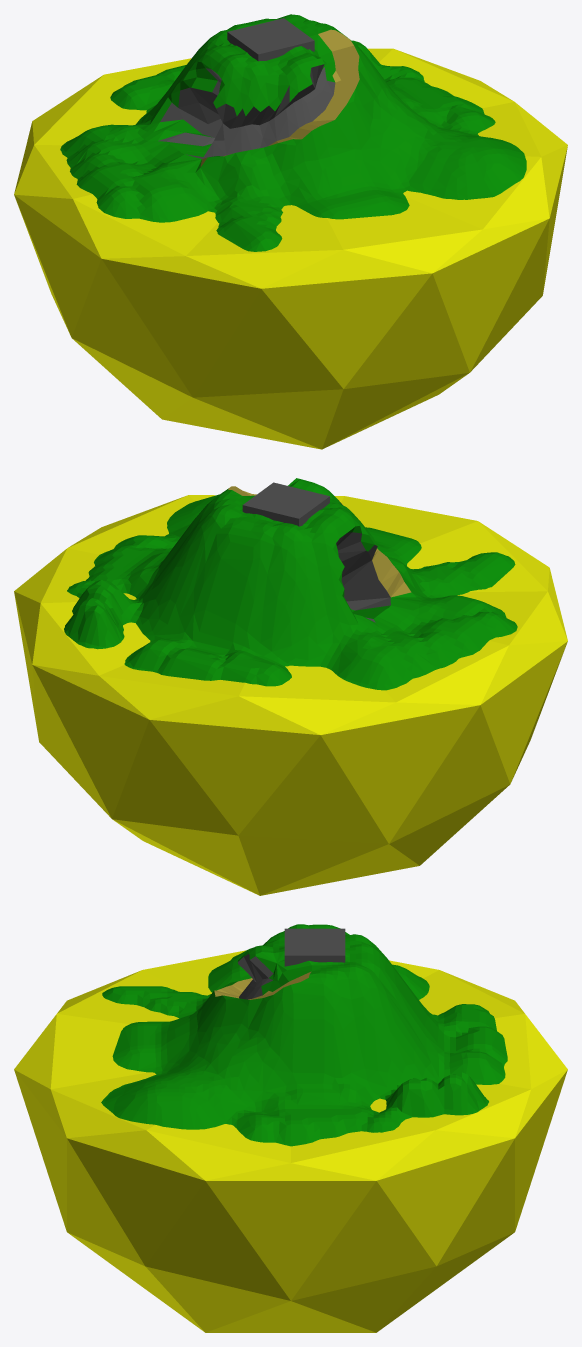
The model's file is Mapa3 Proyecto.fbx.
3 views of the same model, one above another, from view 1: azimuth 30°, elevation 25°; view 2: azimuth 150°, elevation 25°; view 3: azimuth 270°, elevation 25° (orthographic). The views are drawn at different scales.
Parts seen in each view (by area): view 1: Esfera geodésica, Plano, Cubo; view 2: Esfera geodésica, Plano, Cubo; view 3: Esfera geodésica, Plano, Cubo.
Part boxes in pixels (bbox=[...]): Esfera geodésica: bbox=[14, 48, 567, 449]; Plano: bbox=[60, 14, 526, 251]; Cubo: bbox=[227, 18, 314, 61]; Esfera geodésica: bbox=[14, 495, 567, 895]; Plano: bbox=[64, 478, 517, 690]; Cubo: bbox=[242, 482, 329, 526]; Esfera geodésica: bbox=[14, 950, 567, 1332]; Plano: bbox=[101, 924, 507, 1146]; Cubo: bbox=[284, 928, 345, 966].
Bounding box in the file's own units: 19027 × 14925 × 20000.
